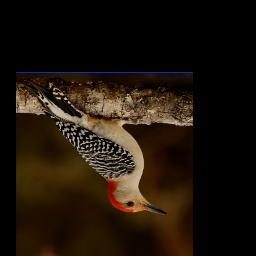Woodpecker: (19, 77, 167, 215)
